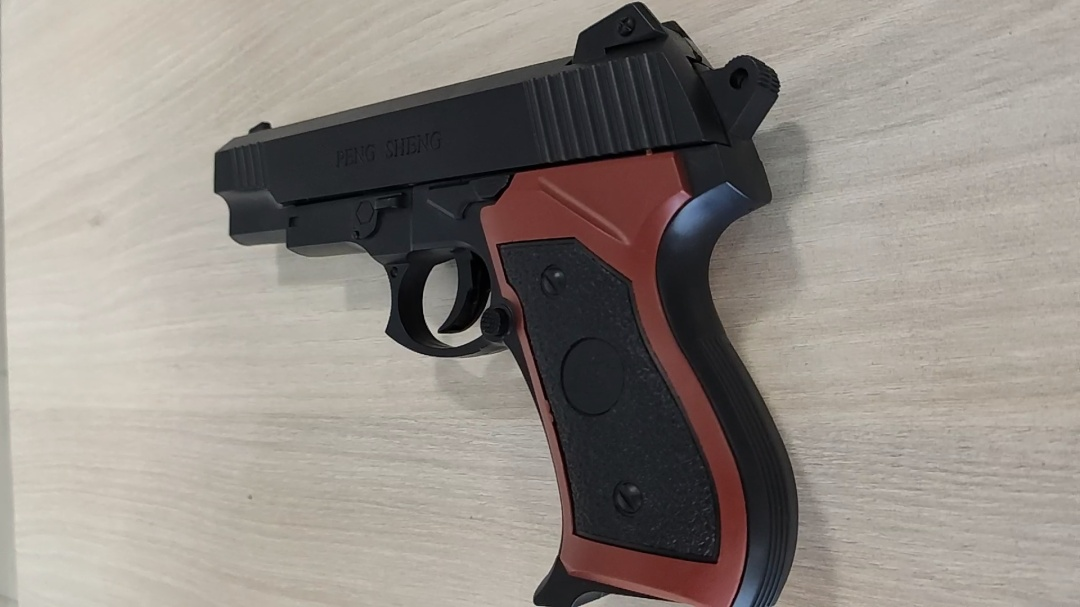gunw: (212, 3, 801, 607)
